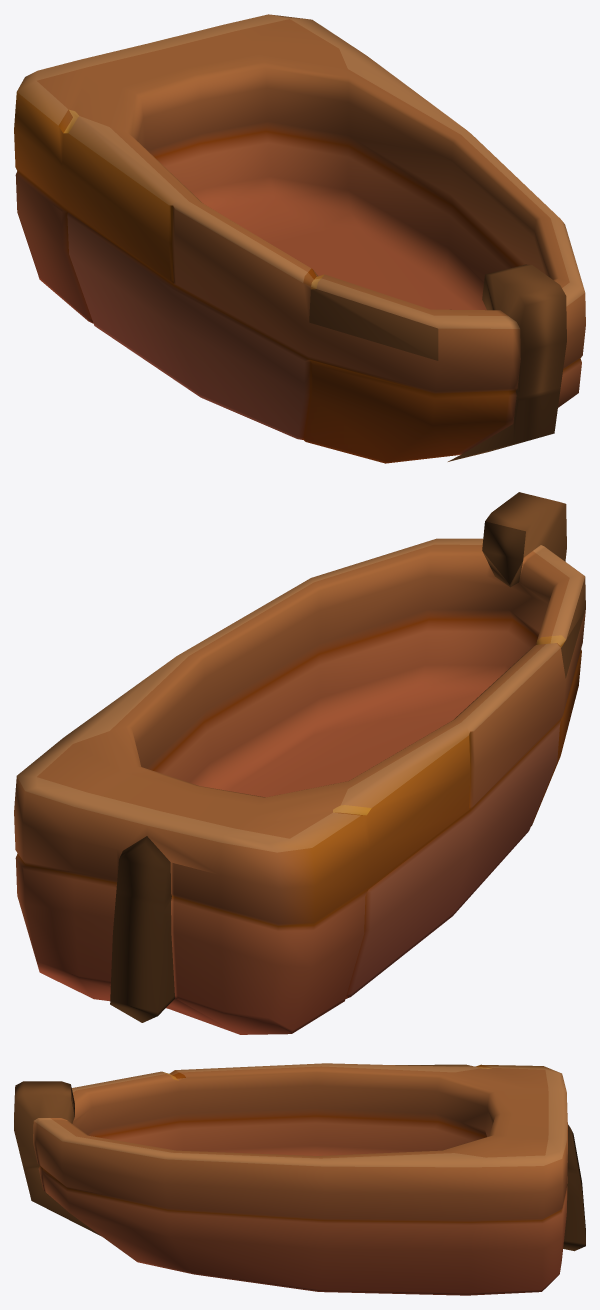
The model's file is карабль скин 2.fbx.
3 views of the same model, one above another, from view 1: azimuth 30°, elevation 25°; view 2: azimuth 150°, elevation 25°; view 3: azimuth 270°, elevation 25° (orthographic). The views are drawn at different scales.
Parts seen in each view (by area): view 1: Cube.001; view 2: Cube.001; view 3: Cube.001.
Boxes of the visible parts, box(x1,y1,x2,y2) form: Cube.001: box(14, 14, 585, 463); Cube.001: box(14, 492, 585, 1034); Cube.001: box(14, 1063, 585, 1295).
Bounding box in the file's own units: 251 × 196 × 583.
